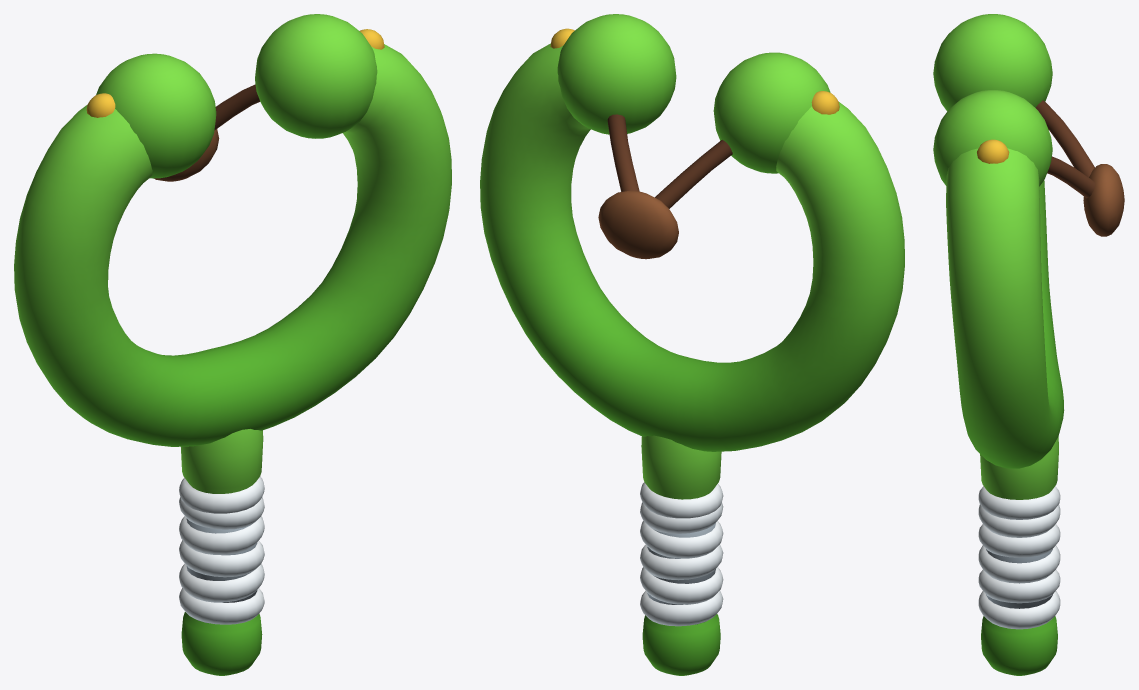
Rendered from Usopp_Slingshot.fbx.
3 views of the same model, side by side, from view 1: azimuth 30°, elevation 25°; view 2: azimuth 150°, elevation 25°; view 3: azimuth 270°, elevation 25° (orthographic). The views are drawn at different scales.
Parts seen in each view (by area): view 1: Usopp_Slingshot; view 2: Usopp_Slingshot; view 3: Usopp_Slingshot.
Part boxes in pixels (box(x1,y1,x2,y2)): Usopp_Slingshot: box(14, 14, 451, 675); Usopp_Slingshot: box(480, 14, 904, 675); Usopp_Slingshot: box(933, 14, 1124, 675).
Size of the model in its own units: 1.78 by 2.56 by 0.724.
1 material, 1 textured.
